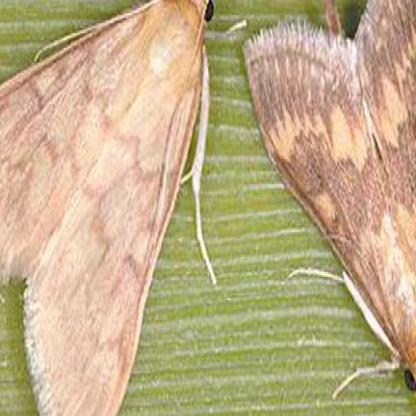stem-borer: (0, 0, 221, 416), (241, 0, 416, 416)
